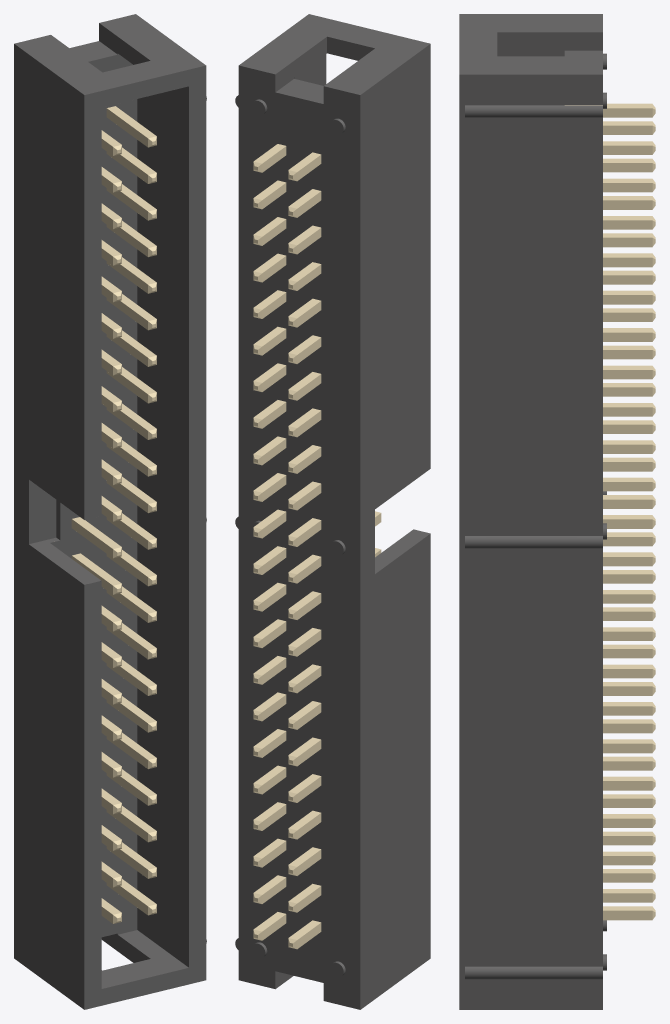
File: IDC-Header_2x22_P2.54mm_Vertical.glb
3 views of the same model, side by side, from view 1: azimuth 30°, elevation 25°; view 2: azimuth 150°, elevation 25°; view 3: azimuth 270°, elevation 25° (orthographic). The views are drawn at different scales.
Parts seen in each view (by area): view 1: Shape_IndexedFaceSet.008, Shape_IndexedFaceSet.039, Shape_IndexedFaceSet.023, Shape_IndexedFaceSet.025, Shape_IndexedFaceSet.009, Shape_IndexedFaceSet.026, Shape_IndexedFaceSet.028, Shape_IndexedFaceSet.027, Shape_IndexedFaceSet.012, Shape_IndexedFaceSet.005, Shape_IndexedFaceSet.011; view 2: Shape_IndexedFaceSet.001, Shape_IndexedFaceSet.008, Shape_IndexedFaceSet.009, Shape_IndexedFaceSet.012, Shape_IndexedFaceSet.027, Shape_IndexedFaceSet.011, Shape_IndexedFaceSet.030, Shape_IndexedFaceSet.039; view 3: Shape_IndexedFaceSet.002, Shape_IndexedFaceSet.009, Shape_IndexedFaceSet.010, Shape_IndexedFaceSet, Shape_IndexedFaceSet.013, Shape_IndexedFaceSet.014, Shape_IndexedFaceSet.046, Shape_IndexedFaceSet.116, Shape_IndexedFaceSet.298, Shape_IndexedFaceSet.410, Shape_IndexedFaceSet.592, Shape_IndexedFaceSet.040 (+39 smaller).
Boxes of the visible parts, x1,y1,x2,y2 form: Shape_IndexedFaceSet.008: (14, 44, 84, 1009); Shape_IndexedFaceSet.039: (137, 86, 188, 967); Shape_IndexedFaceSet.023: (84, 65, 206, 1009); Shape_IndexedFaceSet.025: (50, 53, 137, 937); Shape_IndexedFaceSet.009: (14, 14, 205, 94); Shape_IndexedFaceSet.026: (101, 930, 188, 988); Shape_IndexedFaceSet.028: (29, 480, 56, 543); Shape_IndexedFaceSet.027: (29, 537, 101, 584); Shape_IndexedFaceSet.012: (99, 23, 150, 64); Shape_IndexedFaceSet.005: (101, 933, 150, 962); Shape_IndexedFaceSet.011: (69, 41, 117, 61); Shape_IndexedFaceSet.001: (235, 65, 360, 1009); Shape_IndexedFaceSet.008: (360, 44, 430, 1009); Shape_IndexedFaceSet.009: (239, 14, 430, 94); Shape_IndexedFaceSet.012: (275, 37, 326, 92); Shape_IndexedFaceSet.027: (375, 529, 430, 573); Shape_IndexedFaceSet.011: (276, 79, 323, 103); Shape_IndexedFaceSet.030: (327, 36, 374, 60); Shape_IndexedFaceSet.039: (294, 54, 326, 85); Shape_IndexedFaceSet.002: (459, 74, 602, 1009); Shape_IndexedFaceSet.009: (459, 14, 602, 74); Shape_IndexedFaceSet.010: (497, 32, 602, 50); Shape_IndexedFaceSet: (465, 966, 602, 979); Shape_IndexedFaceSet.013: (465, 105, 602, 117); Shape_IndexedFaceSet.014: (465, 536, 602, 548); Shape_IndexedFaceSet.046: (603, 910, 652, 920); Shape_IndexedFaceSet.116: (603, 723, 652, 733); Shape_IndexedFaceSet.298: (603, 237, 652, 247); Shape_IndexedFaceSet.410: (603, 743, 652, 753); Shape_IndexedFaceSet.592: (603, 257, 652, 267); Shape_IndexedFaceSet.040: (497, 49, 564, 56).
Size of the model in its own units: 3.58 by 25.02 by 4.76.
